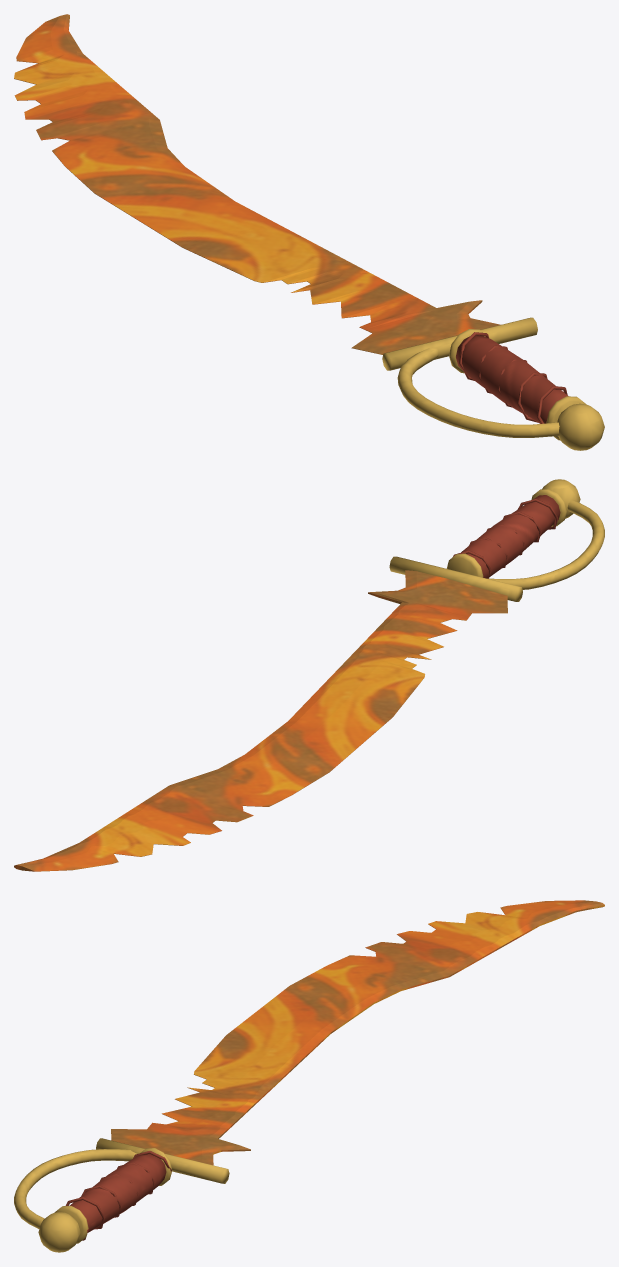
Rendered from item_7item013.glb.
3 renders of one model, top to bottom at view 1: azimuth 30°, elevation 25°; view 2: azimuth 150°, elevation 25°; view 3: azimuth 330°, elevation 25°, orthographic. The views are drawn at different scales.
Parts seen in each view (by area): view 1: swords_7item013; view 2: swords_7item013; view 3: swords_7item013.
Boxes of the visible parts, x1,y1,x2,y2 form: swords_7item013: (14,14,604,450); swords_7item013: (14,479,604,871); swords_7item013: (14,900,604,1252).
Bounding box in the file's own units: 0.2459 × 0.0609 × 1.37.
1 material, 1 textured.
